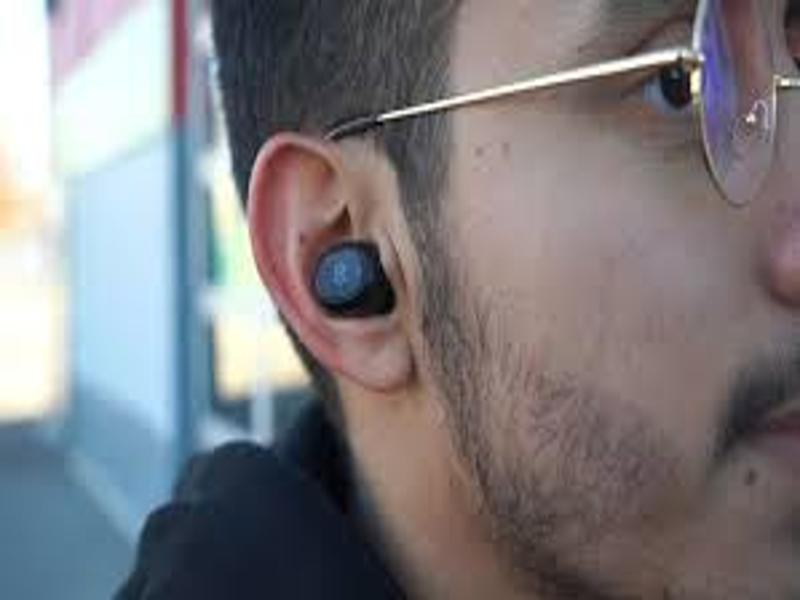headphone: (310, 240, 395, 318)
